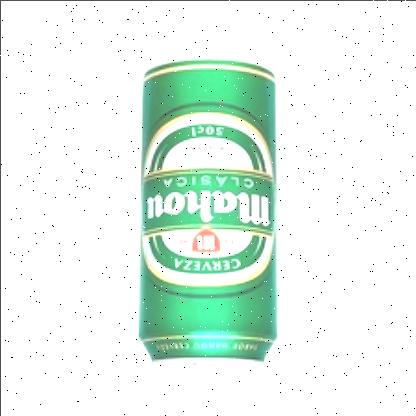Can: (137, 49, 277, 370)
